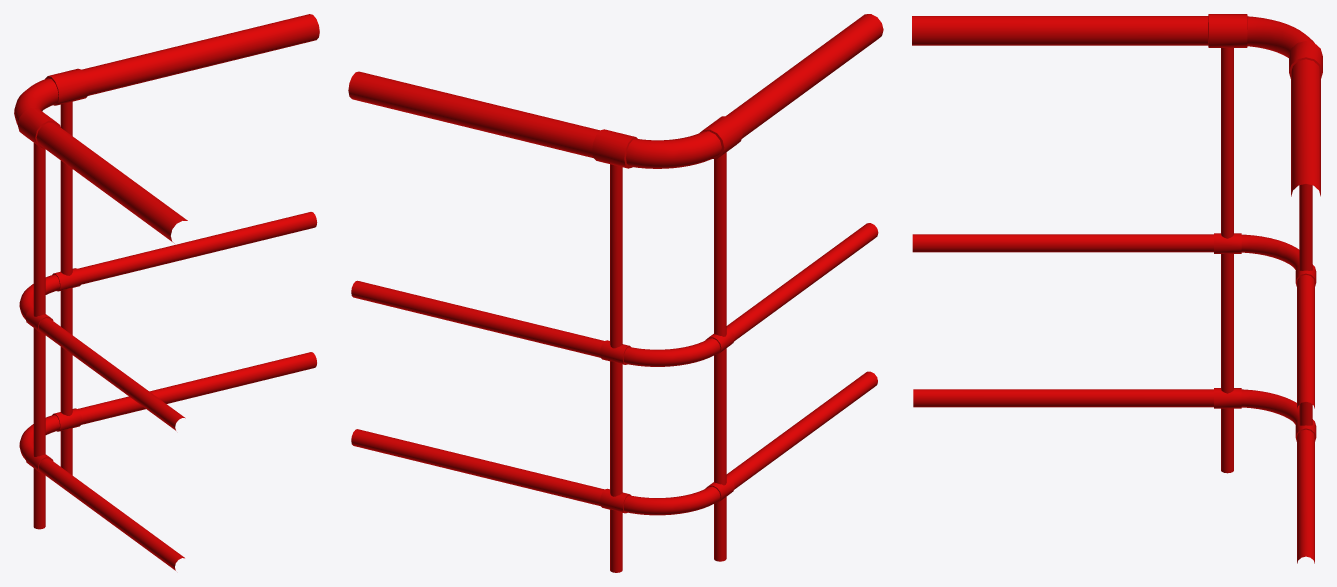
3 views of the same model, side by side, from view 1: azimuth 30°, elevation 25°; view 2: azimuth 150°, elevation 25°; view 3: azimuth 270°, elevation 25° (orthographic). The views are drawn at different scales.
Parts seen in each view (by area): view 1: Mesh; view 2: Mesh; view 3: Mesh.
Boxes of the visible parts, x1,y1,x2,y2 form: Mesh: (14,14,319,570); Mesh: (348,14,883,572); Mesh: (912,14,1322,563).
Bounding box in the file's own units: 1.04 × 1.27 × 1.04.
